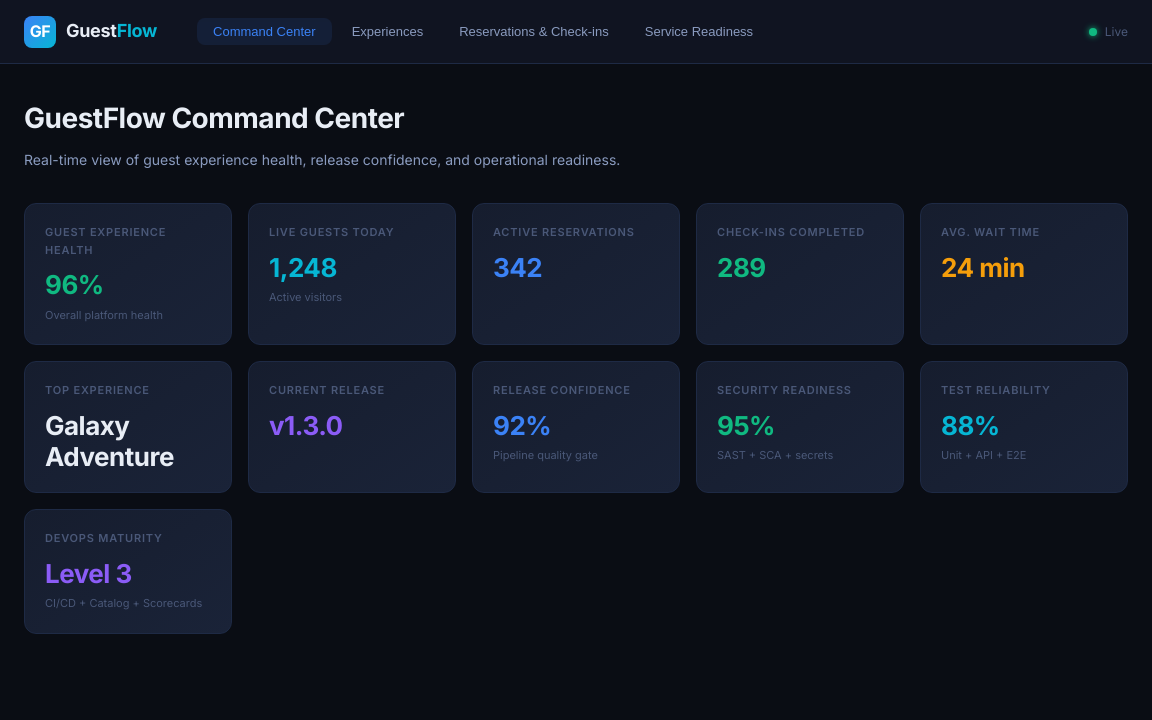
Test: App › deve permitir trocar para Experiences
The image size is (1152, 720).
Click the button "Experiences": (387,32) [336,18,439,45]
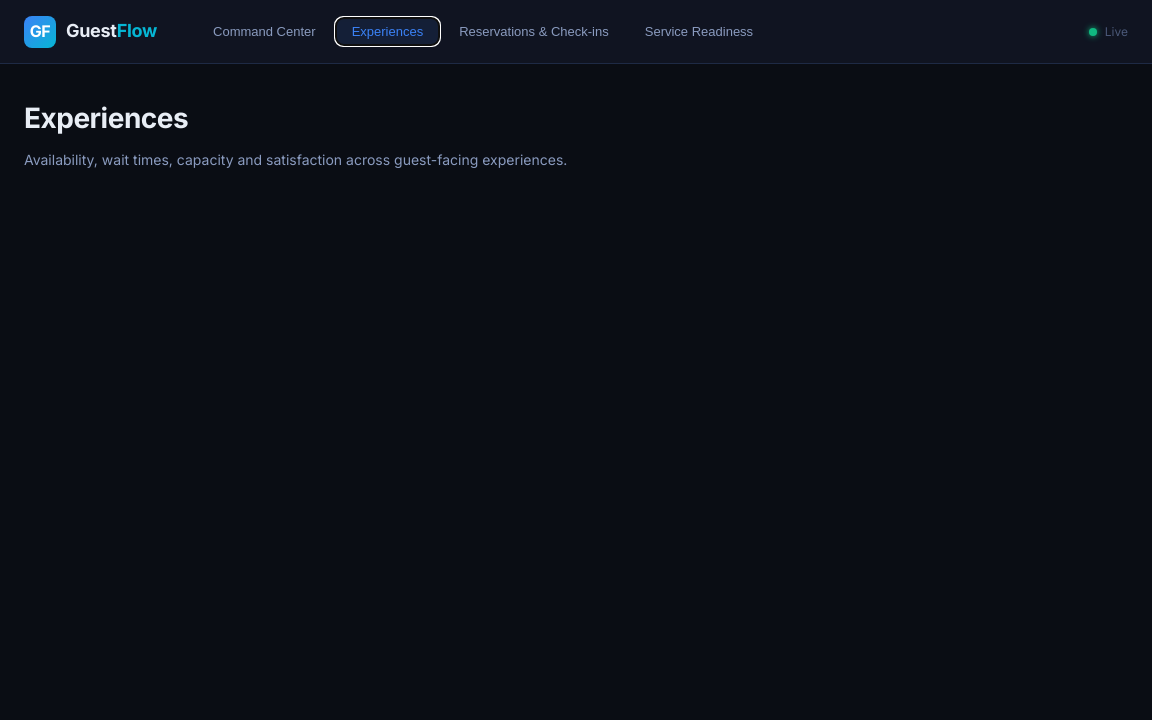
expect the heading "Experiences" is shown: met, box [24,101,188,135]
